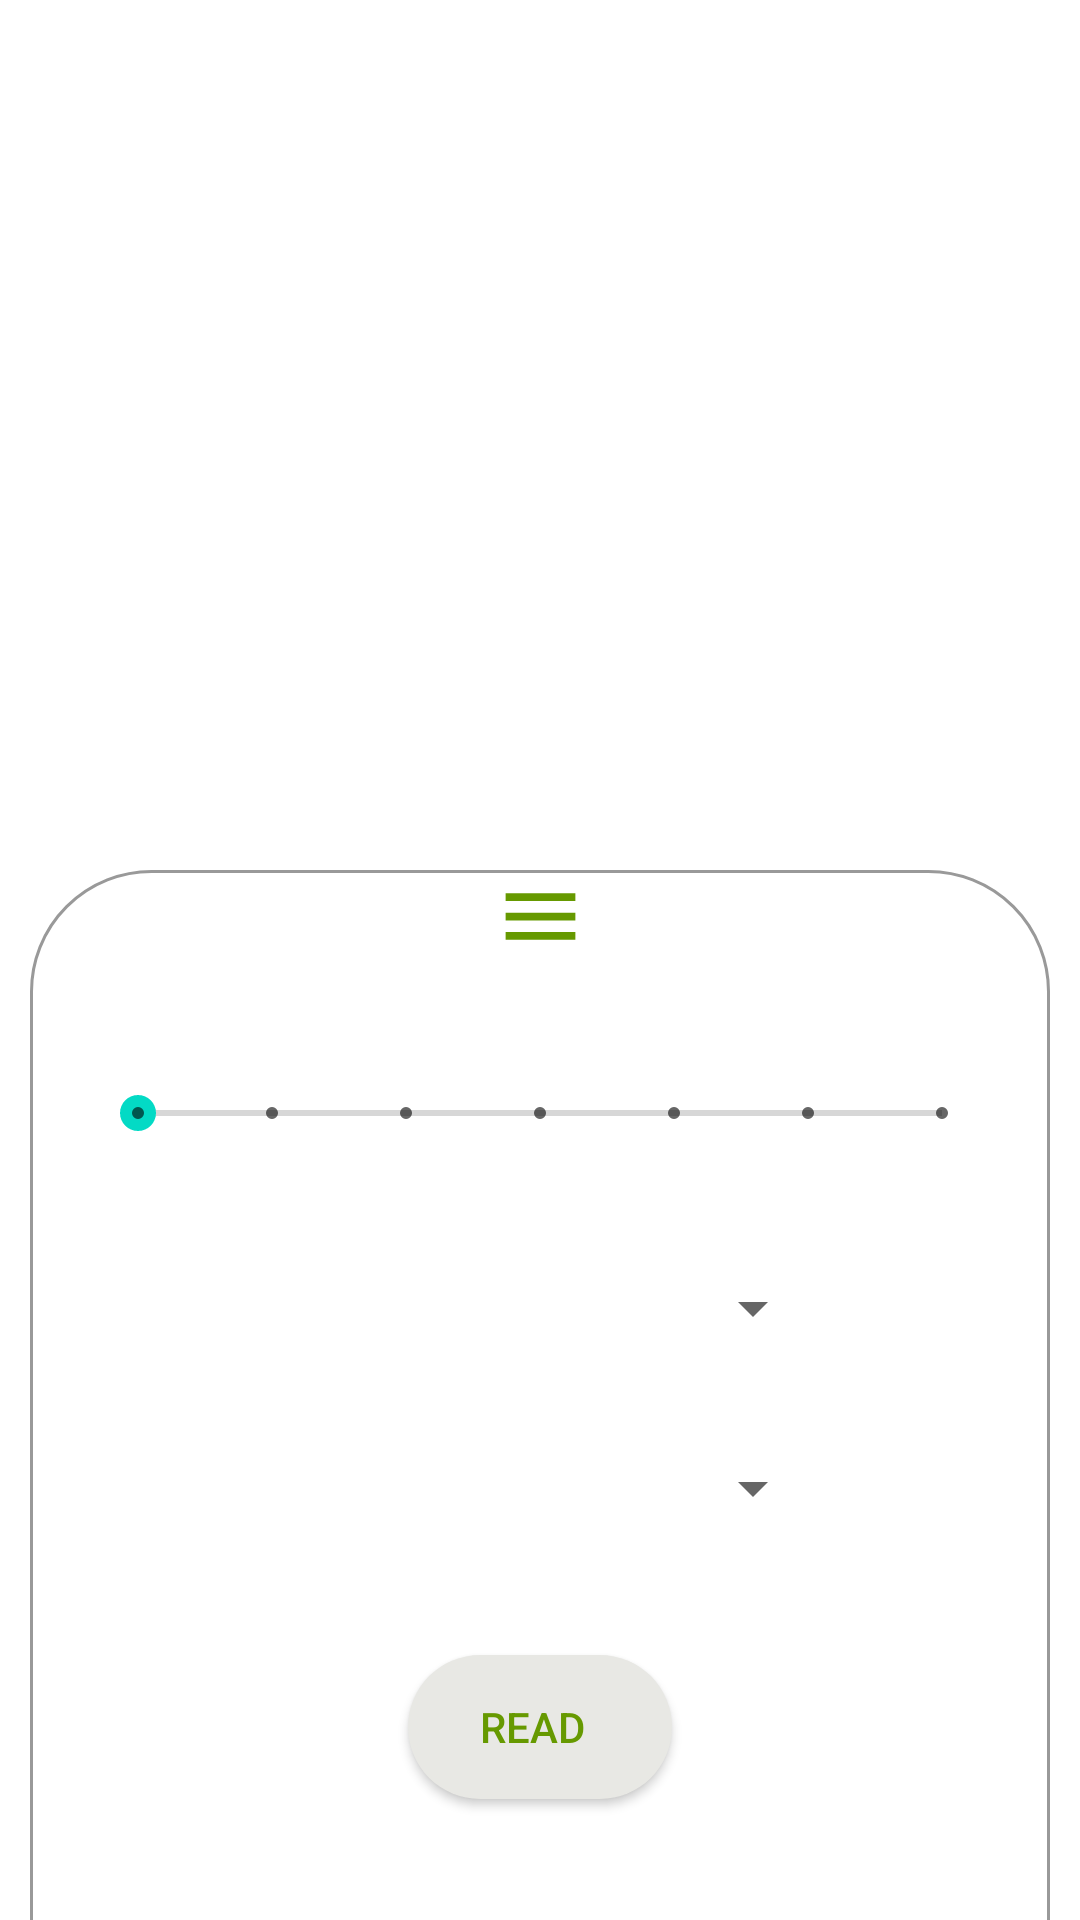

Icon click points for this 1080px×1920px phone screenshot, format (x,y):
menu: (540,916)
